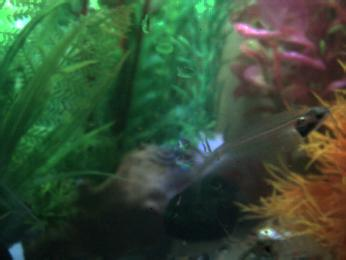glassfish: (181, 105, 329, 197)
siberian prawn: (224, 229, 334, 260)
